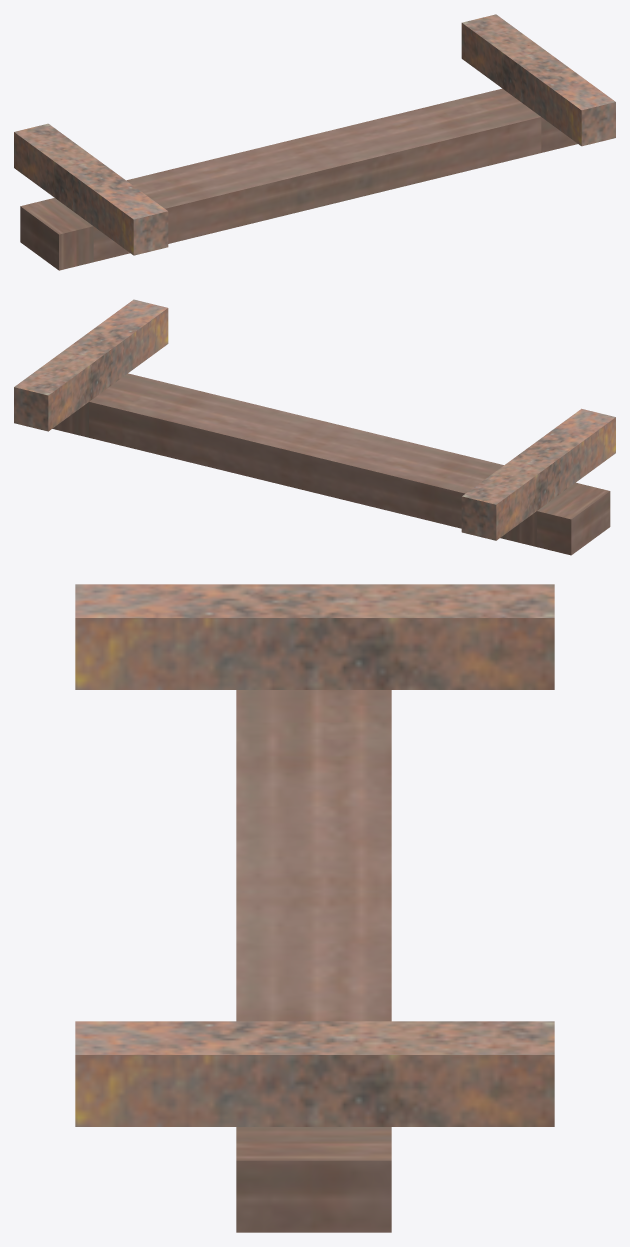
Rendered from TDB_Rail.fbx.
The picture shows the model from 3 angles, top to bottom: view 1: azimuth 30°, elevation 25°; view 2: azimuth 150°, elevation 25°; view 3: azimuth 270°, elevation 25°; orthographic projection. The views are drawn at different scales.
Visible parts, largest first — view 1: Rail; view 2: Rail; view 3: Rail.
Part boxes in pixels (x1,y1,x2,y2): Rail: (14,14,615,270); Rail: (14,299,615,555); Rail: (75,584,554,1232).
Bounding box in the file's own units: 1.6 × 0.6024 × 0.2.
